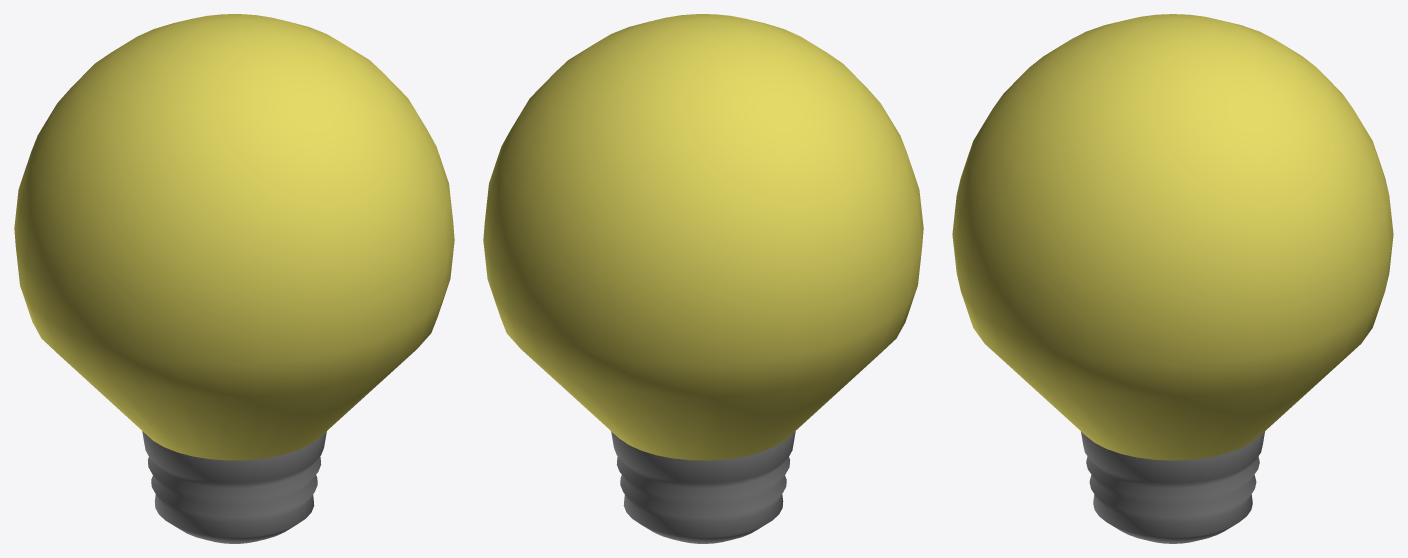
Rendered from lampara_model.obj.
3 views of the same model, side by side, from view 1: azimuth 30°, elevation 25°; view 2: azimuth 150°, elevation 25°; view 3: azimuth 270°, elevation 25° (orthographic).
Parts seen in each view (by area): view 1: Socket, Lampara; view 2: Socket, Lampara; view 3: Socket, Lampara.
Boxes of the visible parts, <box> form: Socket: <box>14,14,454,460</box>; Lampara: <box>142,431,326,543</box>; Socket: <box>483,14,923,460</box>; Lampara: <box>611,431,795,543</box>; Socket: <box>952,14,1393,460</box>; Lampara: <box>1081,431,1264,543</box>.
Size of the model in its own units: 2 by 2.5 by 2.
